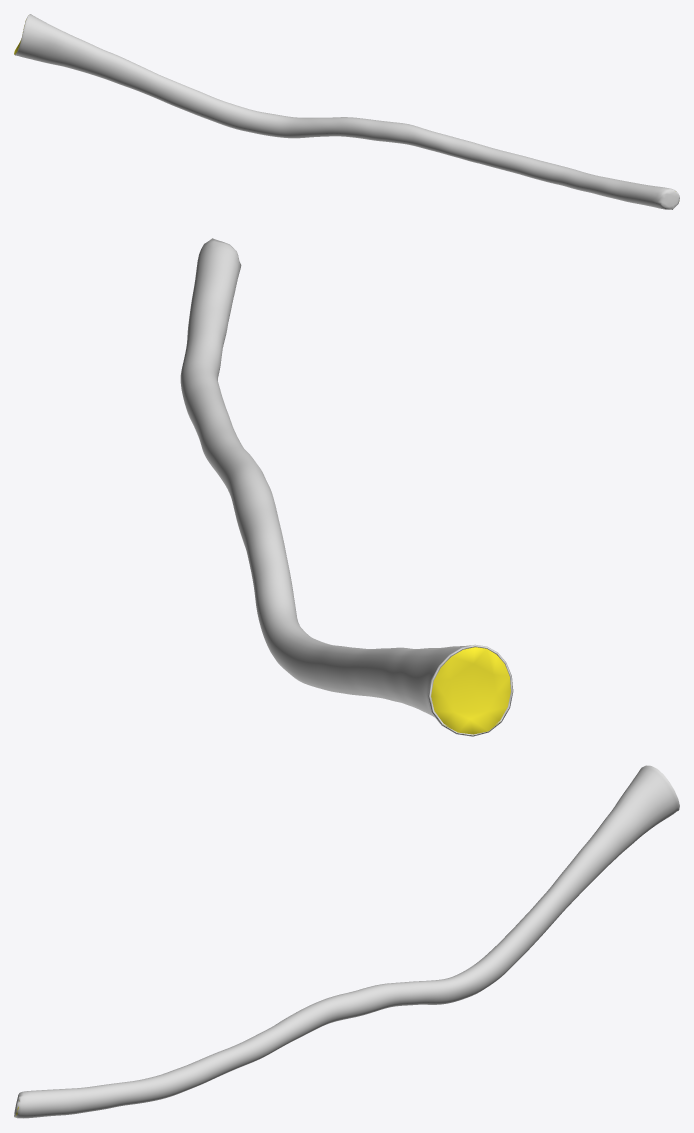
File: VH_F_Nerves_Eye_L.glb
3 views of the same model, one above another, from view 1: azimuth 30°, elevation 25°; view 2: azimuth 150°, elevation 25°; view 3: azimuth 270°, elevation 25° (orthographic). The views are drawn at different scales.
Parts seen in each view (by area): view 1: VH_F_dura_mater_left; view 2: VH_F_dura_mater_left, VH_F_left_optic_nerve; view 3: VH_F_dura_mater_left.
Part boxes in pixels (left/top/right/bottom): VH_F_dura_mater_left: left=14, top=14, right=679, bottom=209; VH_F_dura_mater_left: left=180, top=238, right=513, bottom=736; VH_F_left_optic_nerve: left=431, top=647, right=510, bottom=734; VH_F_dura_mater_left: left=14, top=765, right=679, bottom=1118.
Bounding box in the file's own units: 0.0358 × 0.00885 × 0.0412.
